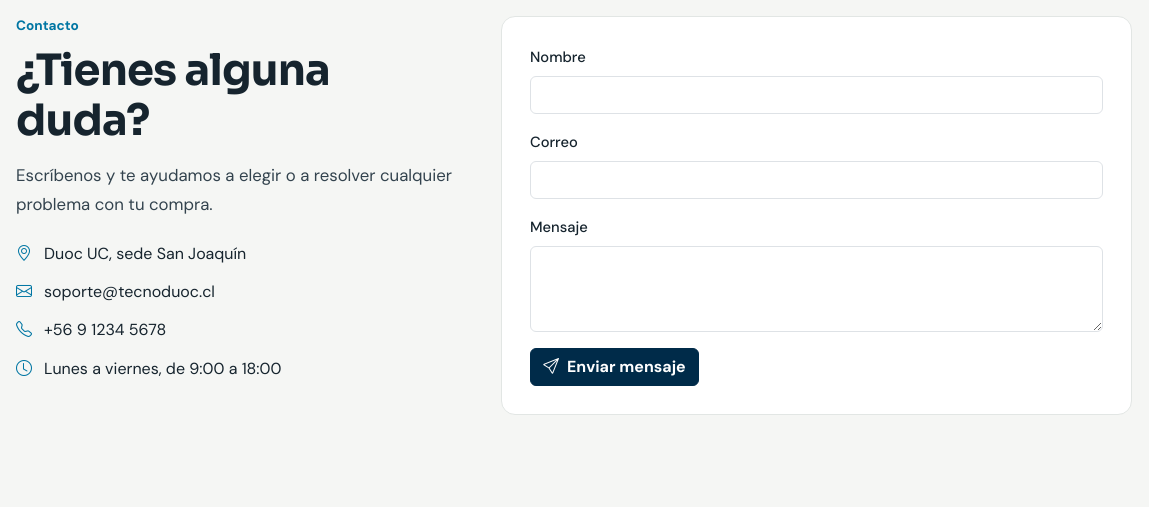
Test: paginas de la tienda › Contacto › el mensaje de exito solo aparece al enviar bien
This screenshot has width=1149, height=507.
Click the button "Enviar mensaje". click: {"x": 614, "y": 367}
box: [530,348,699,386]
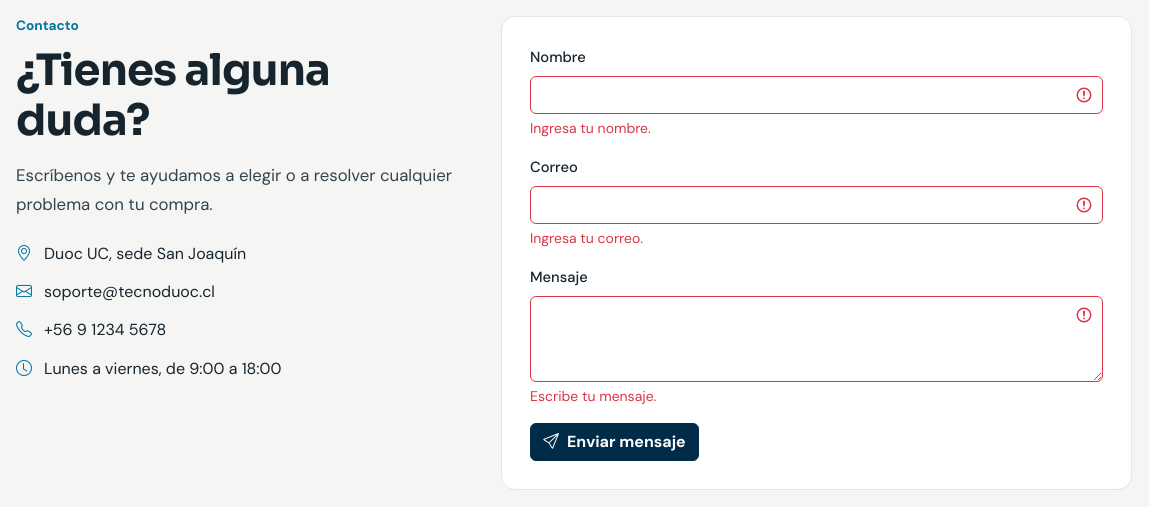
Now the text "Escribe tu mensaje." is shown, box [530,387,656,405]
Type "Ana" into the field labelled "Nombre". click: {"x": 816, "y": 95}
box: [530,76,1103,114]
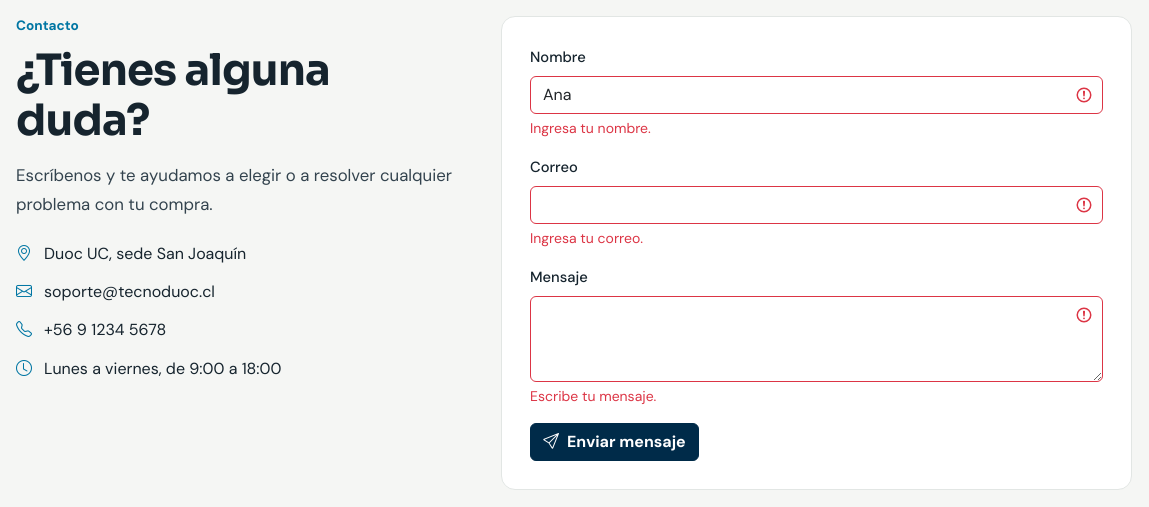
Type "ana@duoc.cl" into the field labelled "Correo". click: {"x": 816, "y": 205}
box: [530,186,1103,224]
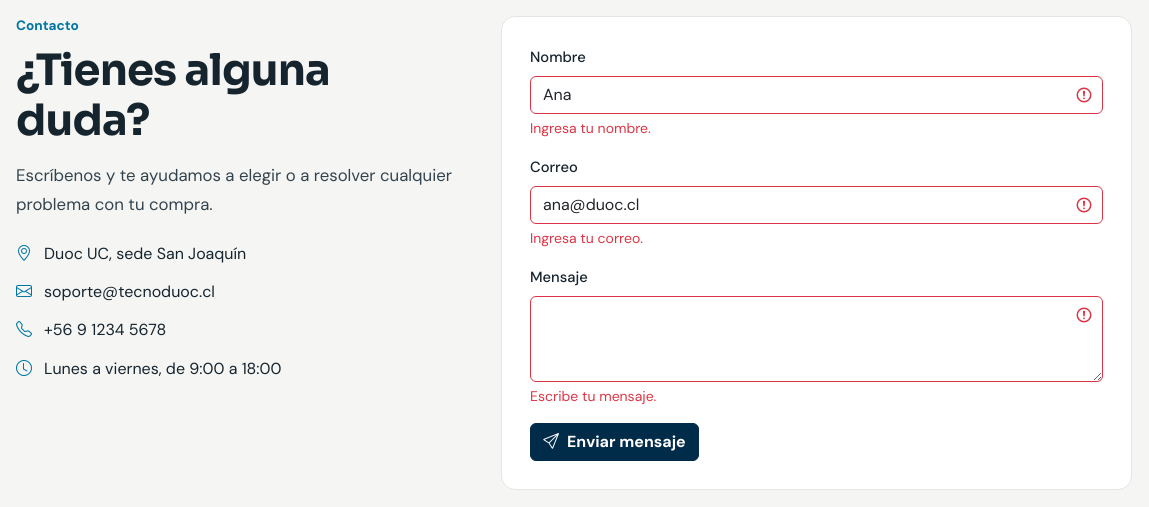
Type "Quiero saber si tienen stock" into the text box labelled "Mensaje". click: {"x": 816, "y": 339}
box: [530,296,1103,382]
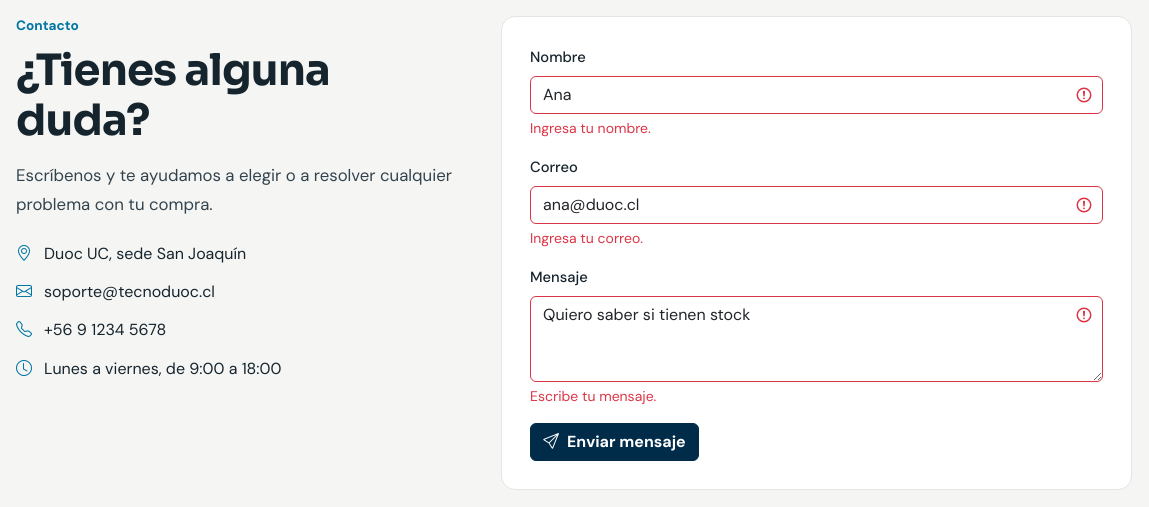
Click the button "Enviar mensaje". click: {"x": 614, "y": 442}
box: [530,423,699,461]
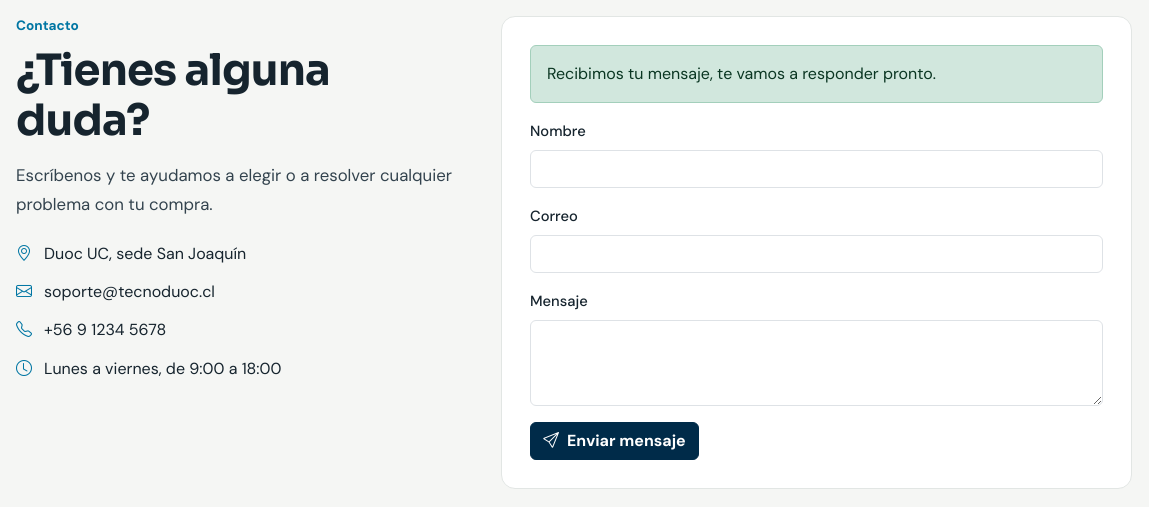
Now the message "Recibimos tu mensaje, te vamos a responder pronto." is shown, box [530,45,1103,103]
Now the field labelled "Nombre" is empty, box [530,150,1103,188]
